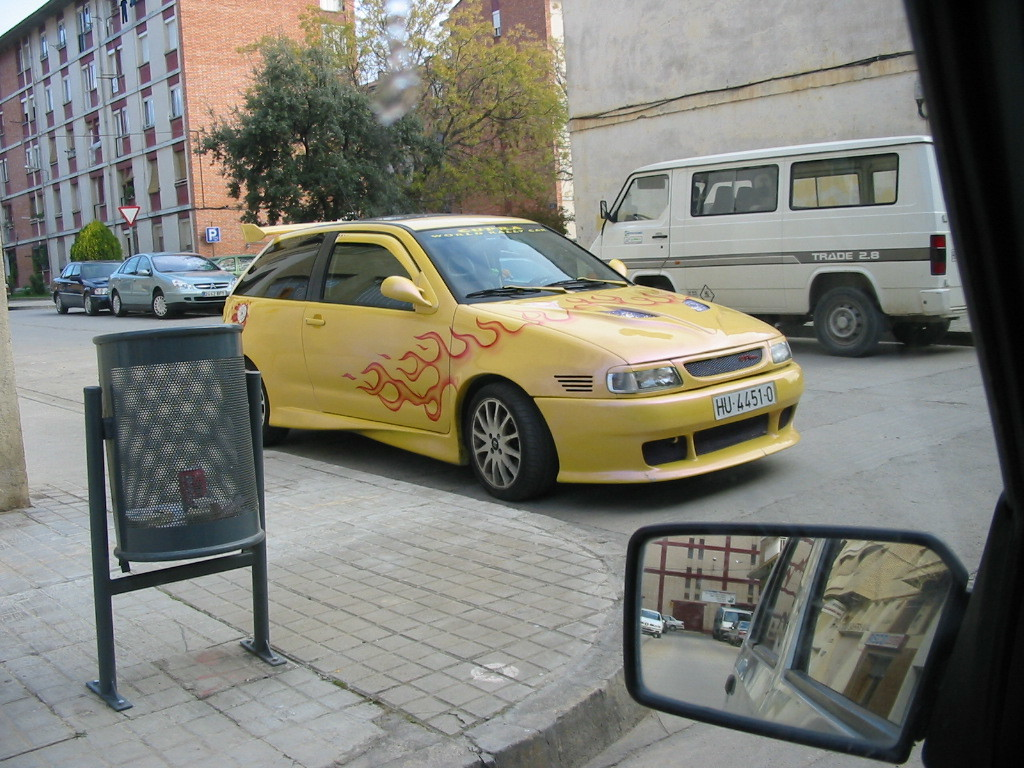Car: (154, 230, 800, 505), (104, 248, 236, 316), (48, 259, 120, 316), (636, 600, 661, 636), (654, 612, 680, 627), (728, 620, 748, 639)
